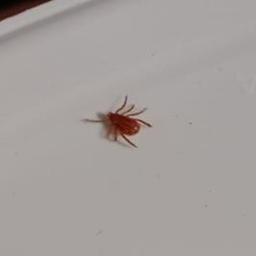Rhipicephalus sanguineus: (84, 95, 154, 150)
